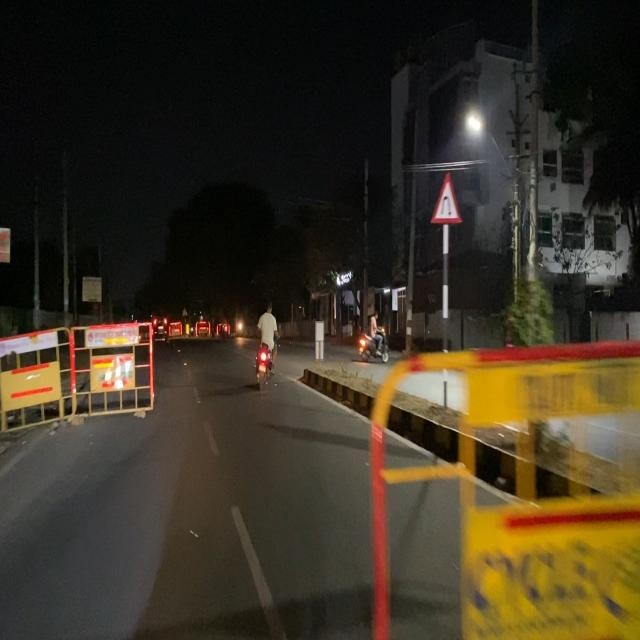bien_nguy_hiem: (432, 168, 462, 224)
